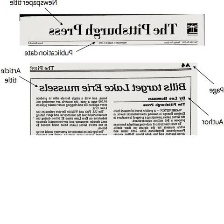news_paper: (28, 62, 198, 136), (17, 12, 206, 47)
